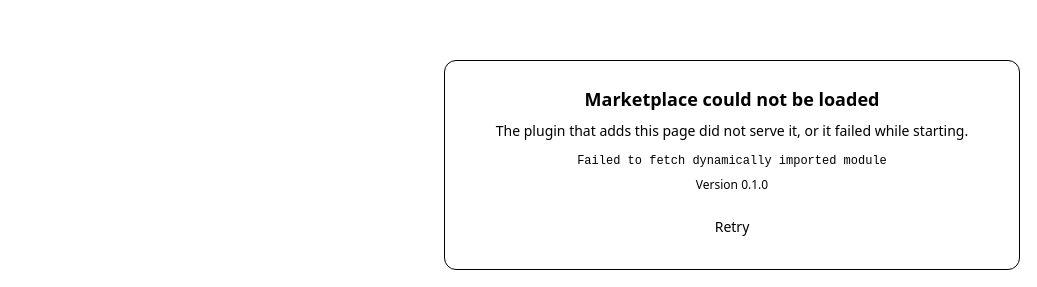
Test case: ExtensionPage › shows the error panel with the version when loading fails, and Retry loads a fresh copy
Expected: the heading "Marketplace could not be loaded" is shown, [585,87,879,111]
Expected: the text "Failed to fetch dynamically imported module" is shown, [577,154,887,168]
Click the button "Retry": coordinates (732, 227) [699,209,765,245]
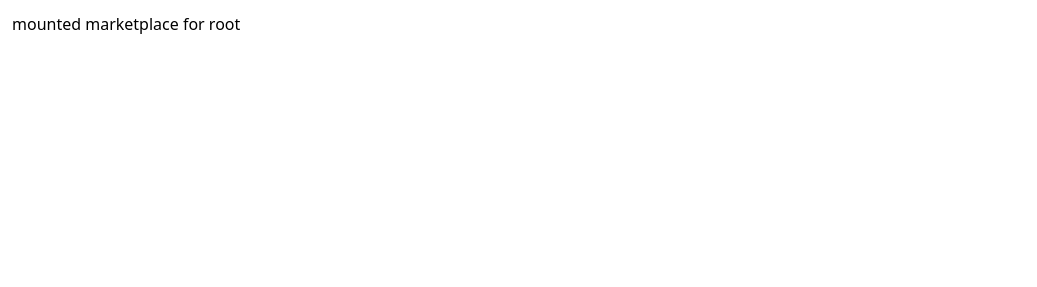
Expected: the text "mounted marketplace for root" is shown, [12,13,240,35]
Expected: the heading "Marketplace could not be loaded" is gone
